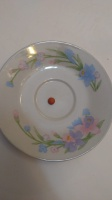Dolorex: (47, 97, 56, 105)
